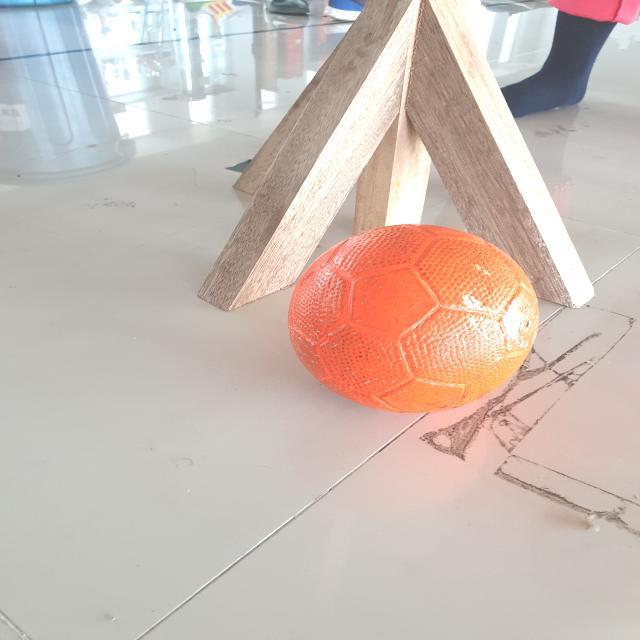bola: (282, 217, 550, 419)
